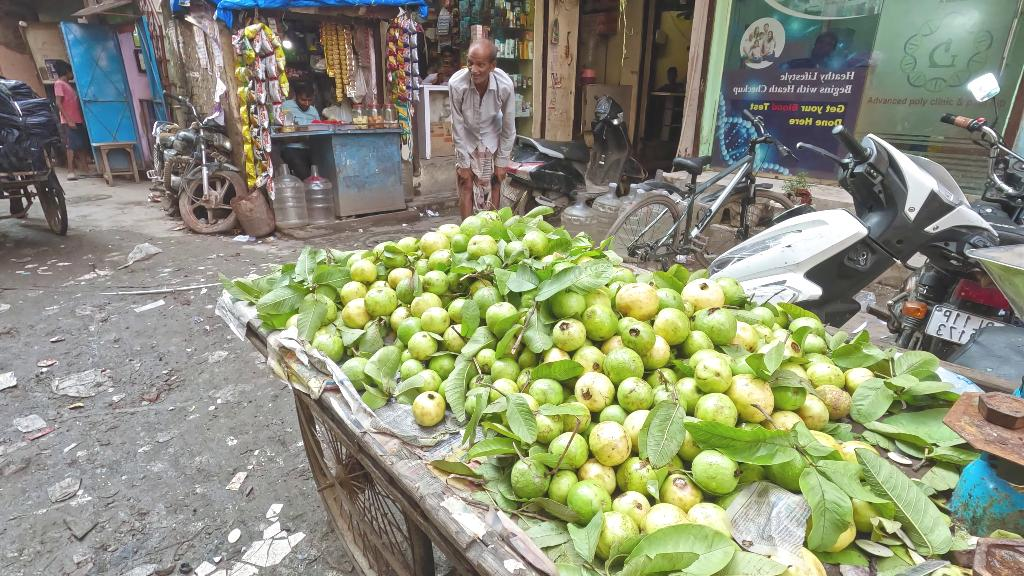garbage: (122, 240, 160, 267), (264, 55, 278, 78), (273, 102, 284, 127), (244, 144, 254, 162), (231, 234, 250, 243), (411, 76, 420, 90), (412, 62, 419, 76)
